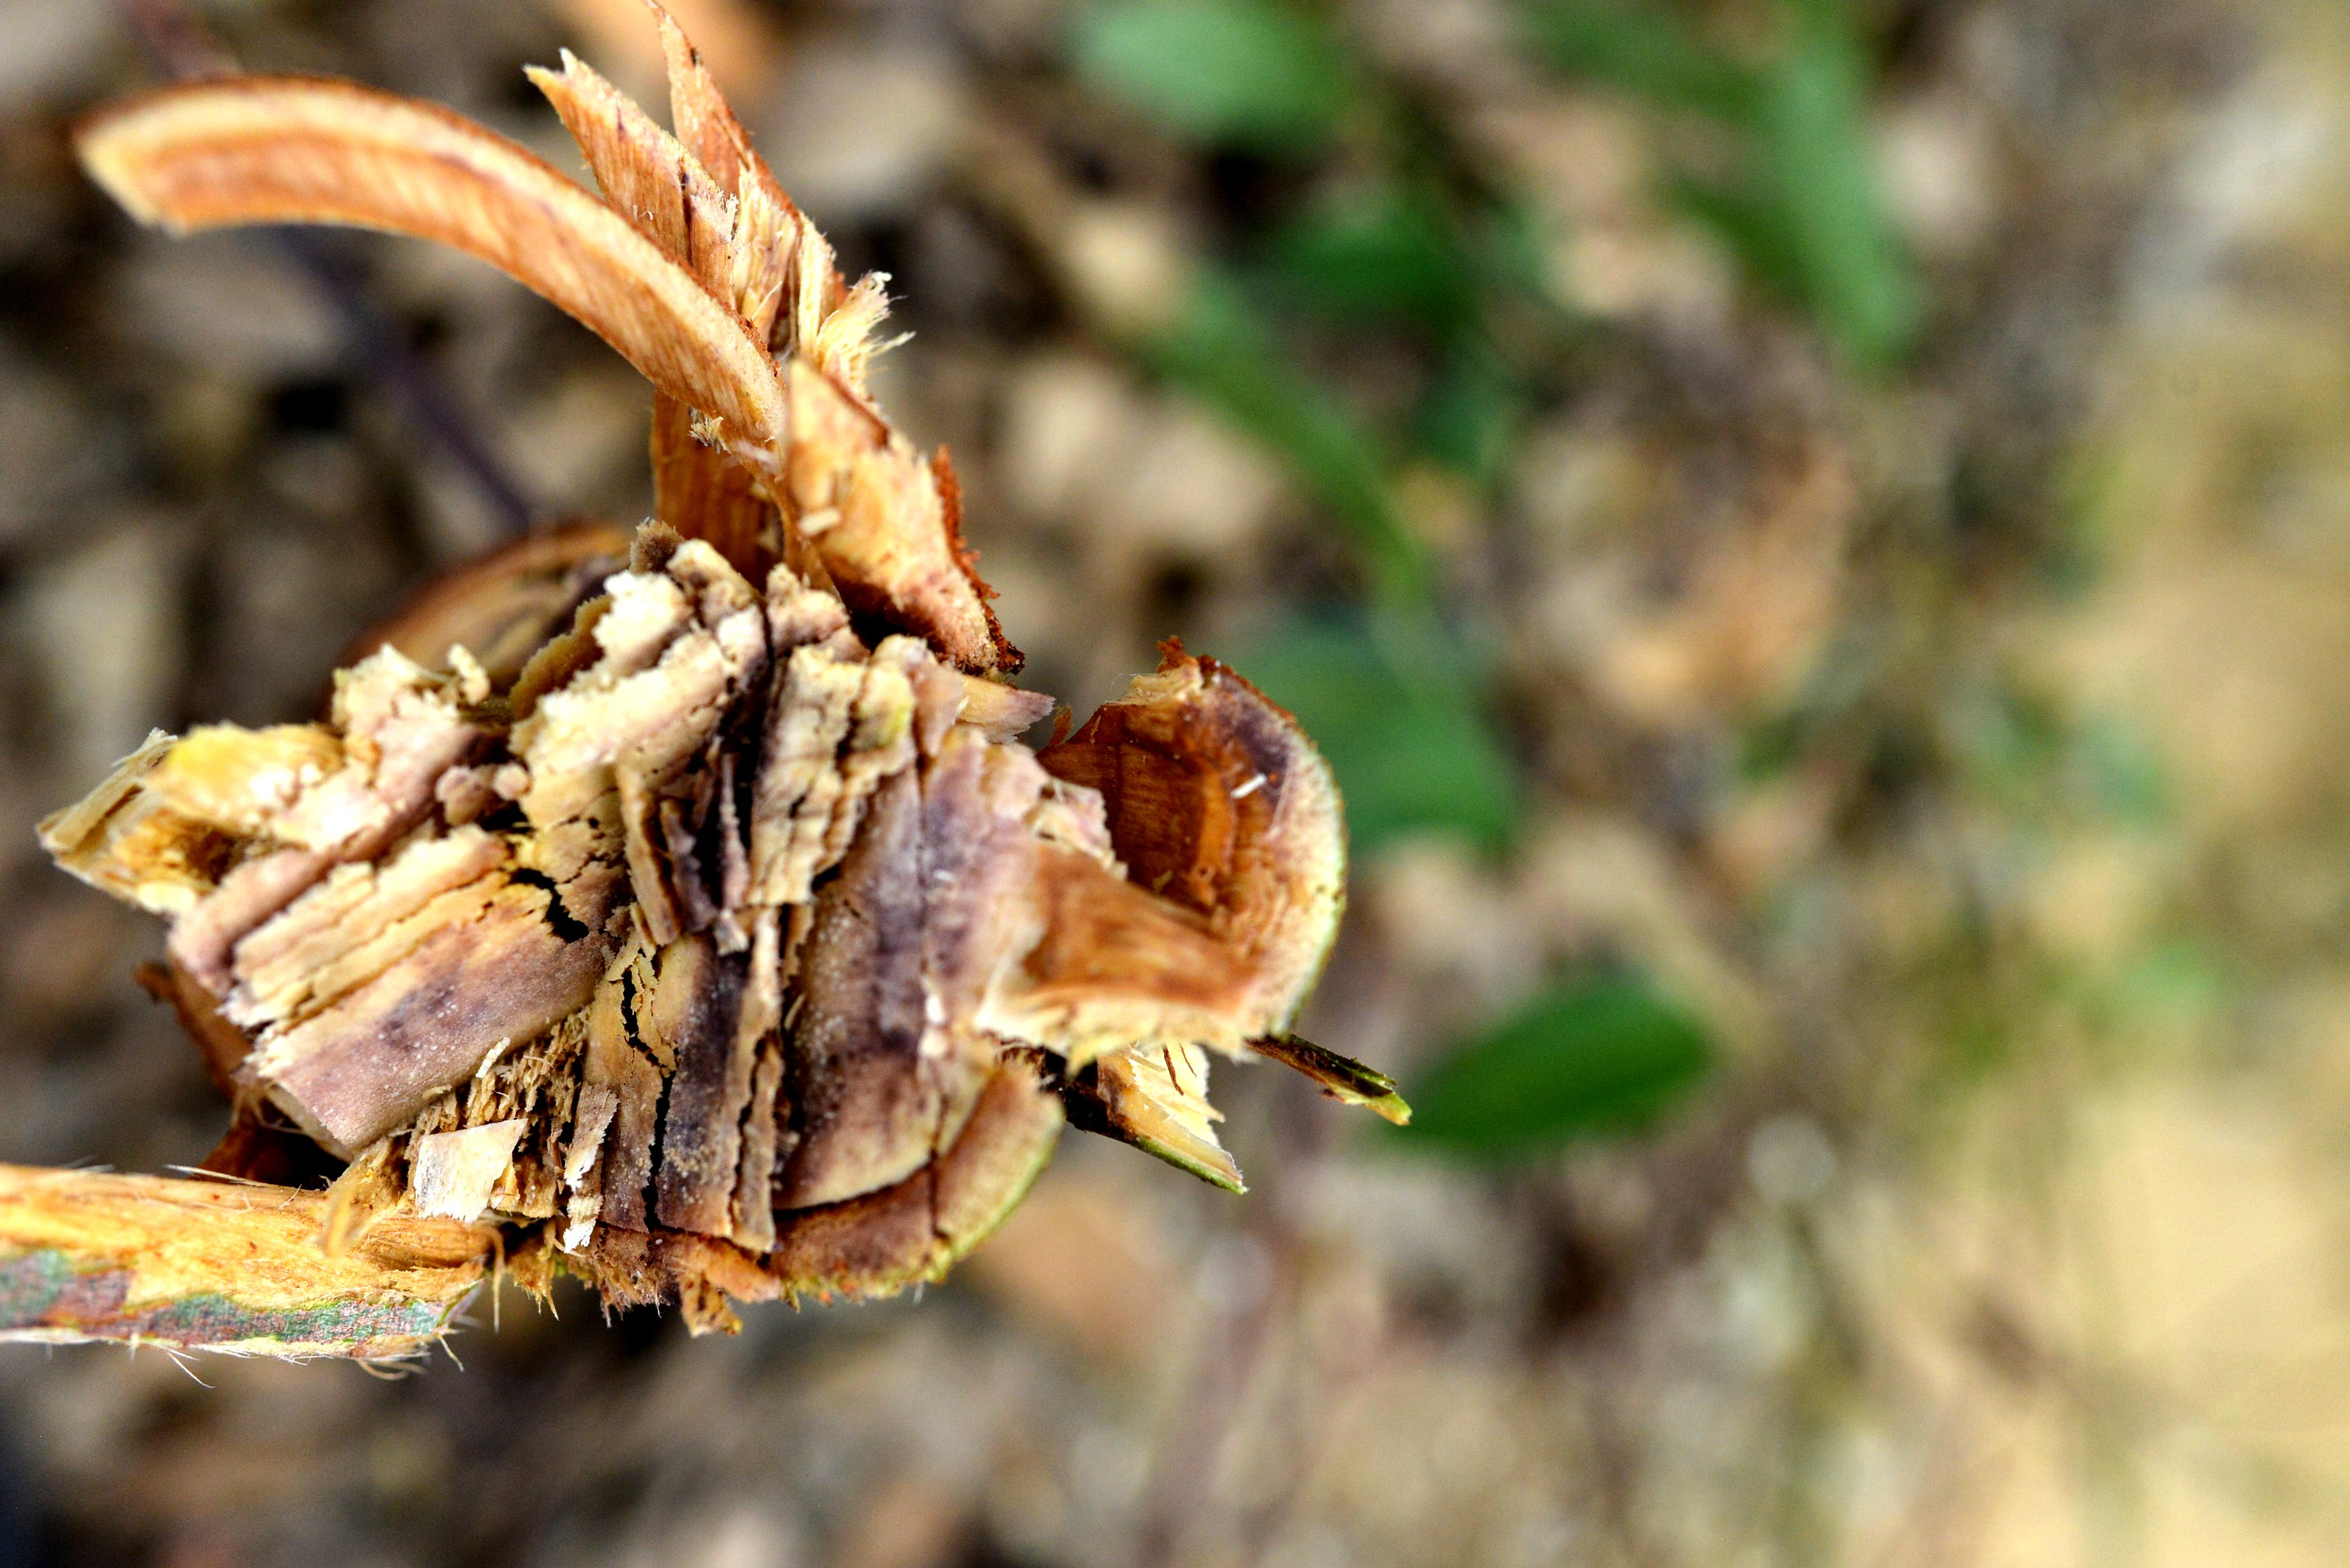Ralstonia: (612, 947, 730, 1258), (329, 978, 485, 1125), (789, 870, 875, 1087)
